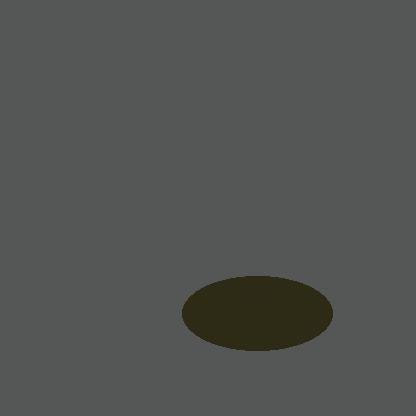pothole: (182, 276, 332, 350)
